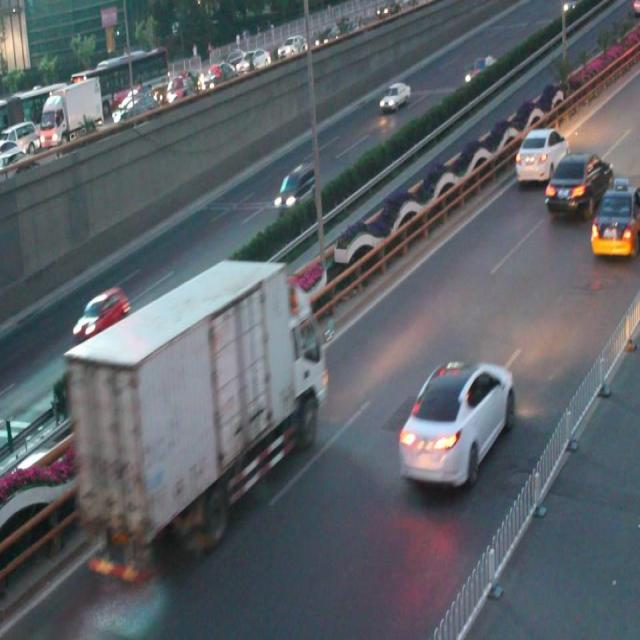bus: (65, 259, 329, 567)
car: (397, 356, 514, 490), (33, 422, 98, 494), (545, 151, 611, 216), (590, 179, 640, 257), (513, 126, 570, 184), (74, 290, 129, 342), (272, 163, 320, 212), (376, 79, 411, 114)
